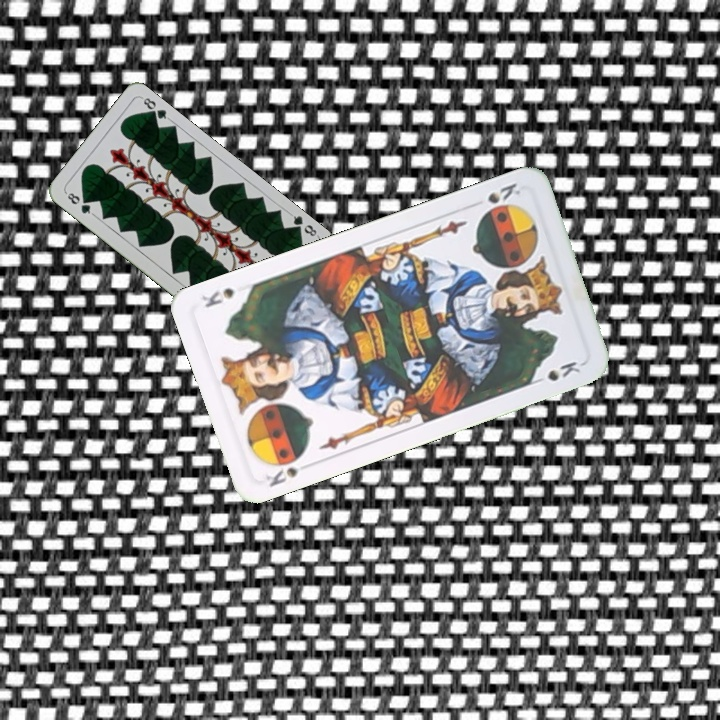G8: (62, 188, 97, 218), (286, 209, 321, 239)
SK: (478, 179, 524, 217), (262, 458, 315, 490)
